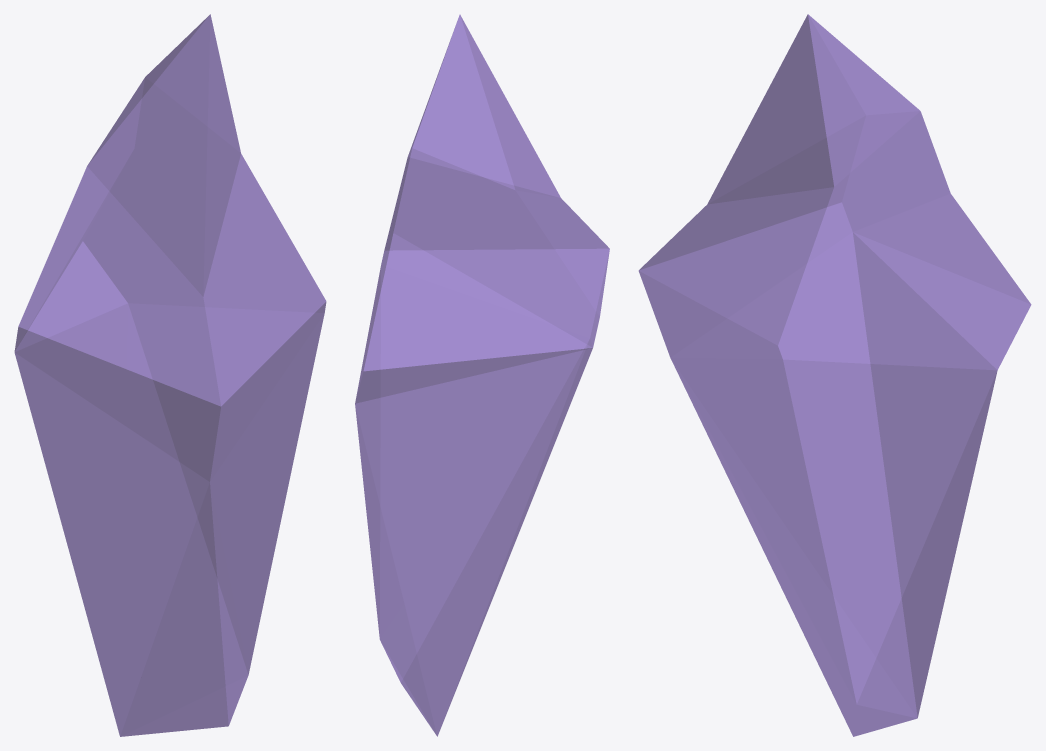
Rendered from Crystal_New_11.fbx.
3 renders of one model, left to right at view 1: azimuth 30°, elevation 25°; view 2: azimuth 150°, elevation 25°; view 3: azimuth 270°, elevation 25°, orthographic. The views are drawn at different scales.
Visible parts, largest first — view 1: Model; view 2: Model; view 3: Model.
Boxes of the visible parts, box(x1,y1,x2,y2) form: Model: box(14, 14, 326, 736); Model: box(355, 14, 609, 736); Model: box(638, 14, 1031, 736).
Bounding box in the file's own units: 167 × 438 × 217.
